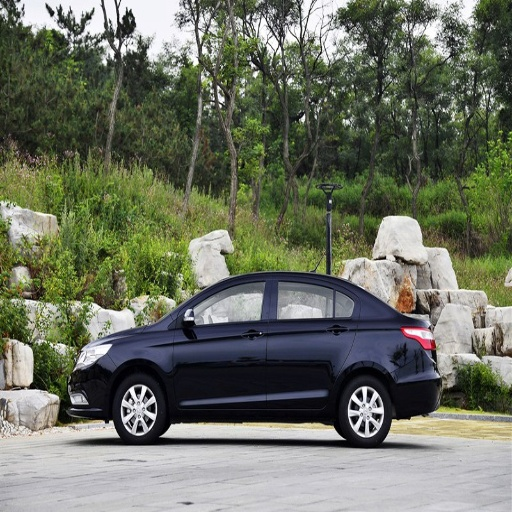back_left_door: (267, 276, 356, 409)
front_left_door: (174, 277, 271, 406)
